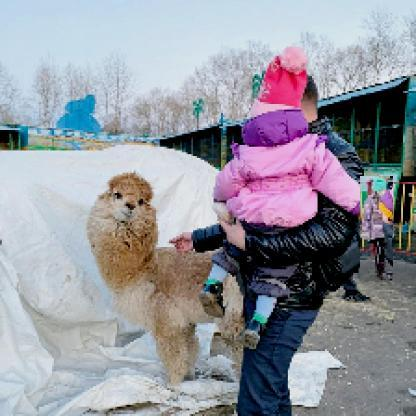child: (199, 47, 378, 352), (361, 178, 395, 284)
